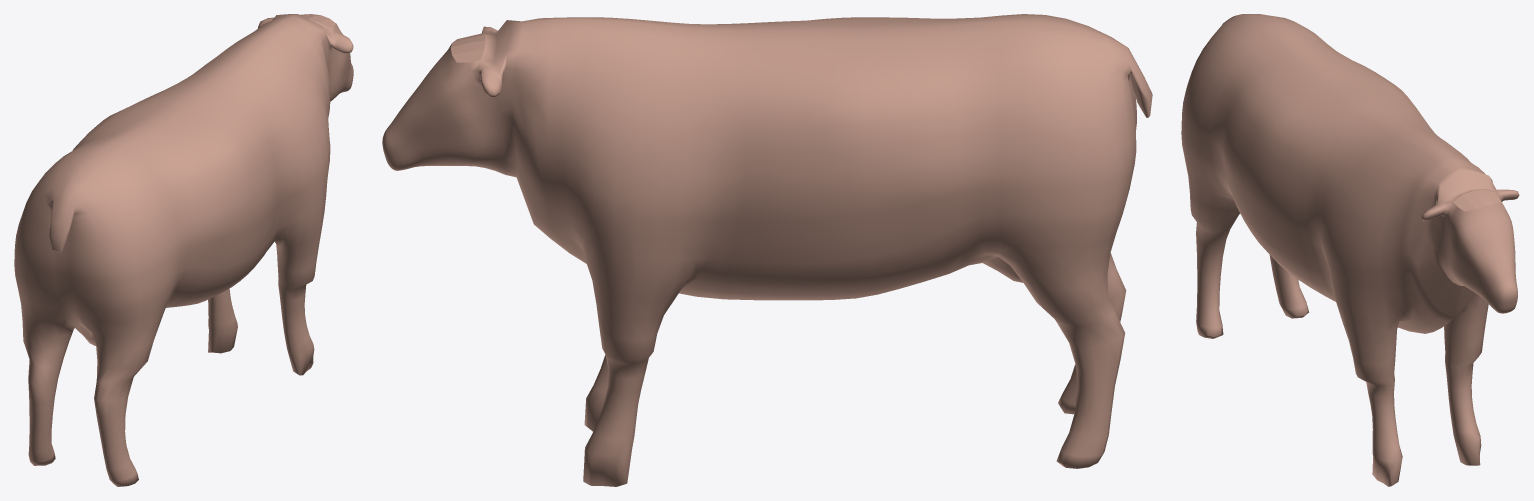
Rendered from sheepplaceholder (1).fbx.
3 renders of one model, left to right at view 1: azimuth 30°, elevation 25°; view 2: azimuth 150°, elevation 25°; view 3: azimuth 270°, elevation 25°, orthographic. The views are drawn at different scales.
Parts seen in each view (by area): view 1: bull4; view 2: bull4; view 3: bull4.
Boxes of the visible parts, x1,y1,x2,y2 form: bull4: (14, 14, 353, 486); bull4: (382, 14, 1152, 486); bull4: (1181, 14, 1519, 486).
Size of the model in its own units: 19.29 by 13.62 by 12.59.
